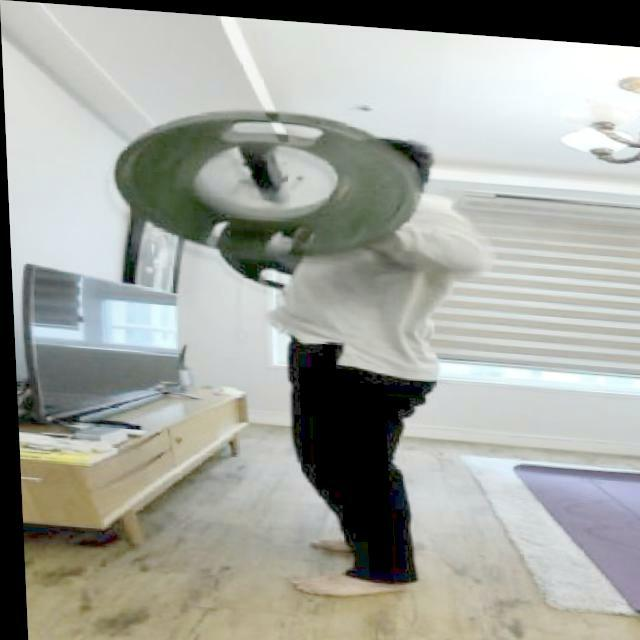barbell: (100, 86, 420, 268)
